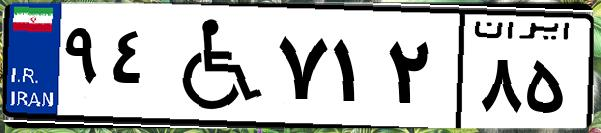1: (330, 28, 385, 110)
2: (385, 28, 445, 110)
4: (110, 28, 158, 98)
5: (525, 38, 570, 115)
7: (270, 28, 330, 110)
8: (475, 38, 525, 113)
9: (57, 26, 110, 100)
ژ (معلولین و جانبازان): (158, 12, 270, 120)
